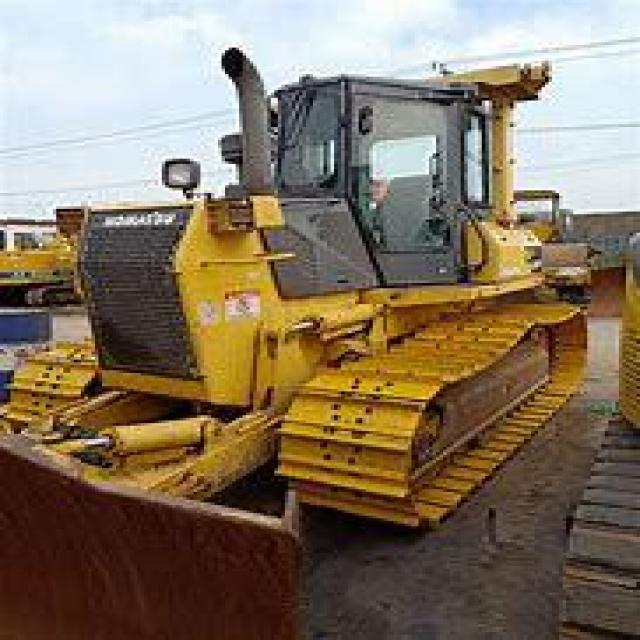Bulldozer: (63, 34, 588, 513)
